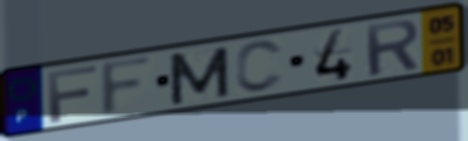4: (312, 27, 355, 83)
C: (233, 38, 287, 96)
F: (98, 52, 157, 120), (45, 63, 100, 125)
M: (165, 44, 233, 108)
R: (362, 17, 422, 79)
